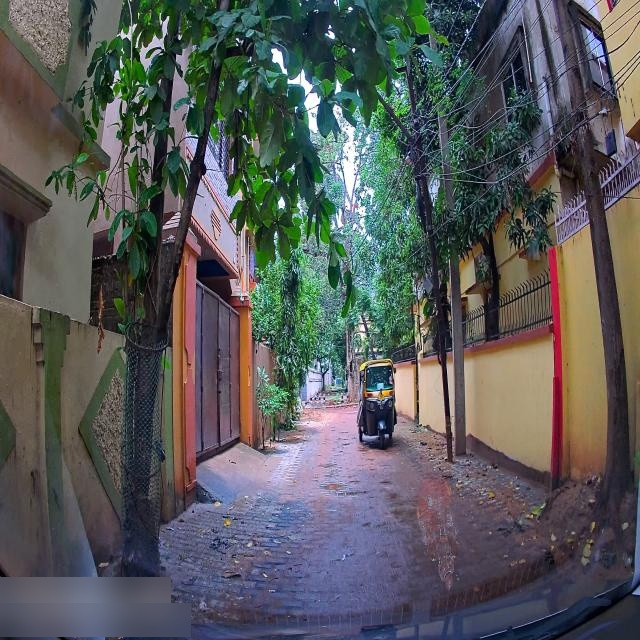pothole: (335, 552, 361, 563), (323, 476, 342, 488), (320, 462, 340, 469), (340, 492, 368, 497), (360, 520, 372, 528), (337, 436, 349, 442), (338, 450, 348, 456), (378, 479, 392, 483), (341, 444, 353, 448), (340, 429, 351, 433), (329, 430, 336, 432), (320, 429, 324, 432)
